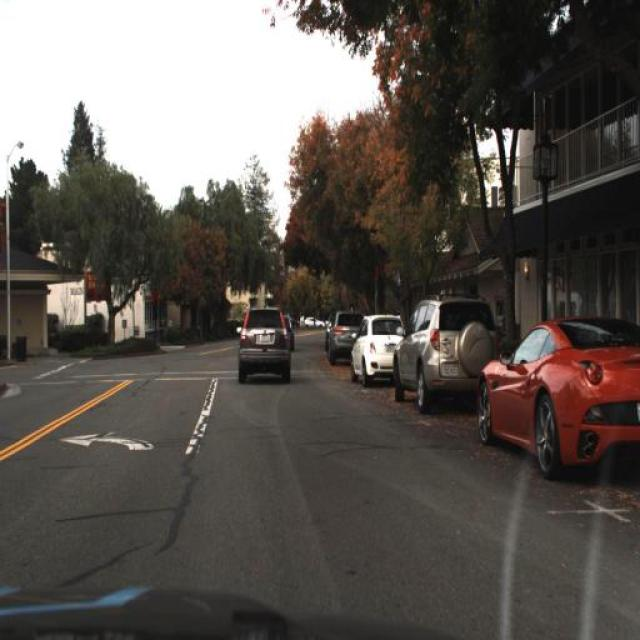car: (473, 317, 639, 493), (390, 290, 498, 415), (235, 298, 297, 390), (346, 311, 404, 389), (322, 305, 369, 364)
